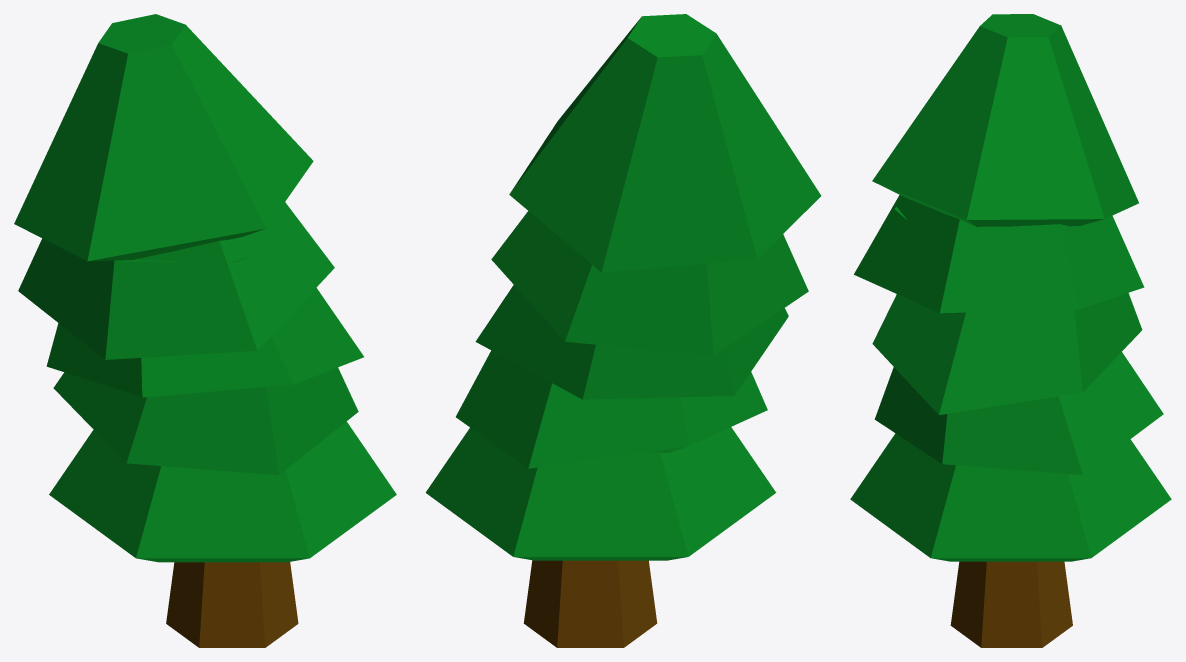
Rendered from Çam.fbx.
The picture shows the model from 3 angles, left to right: view 1: azimuth 30°, elevation 25°; view 2: azimuth 150°, elevation 25°; view 3: azimuth 270°, elevation 25°; orthographic projection. The views are drawn at different scales.
Parts seen in each view (by area): view 1: Silindir, Silindir.001; view 2: Silindir, Silindir.001; view 3: Silindir, Silindir.001.
Boxes of the visible parts, bbox=[...] form: Silindir: bbox=[14, 14, 396, 562]; Silindir.001: bbox=[166, 562, 298, 647]; Silindir: bbox=[425, 14, 821, 560]; Silindir.001: bbox=[523, 560, 657, 647]; Silindir: bbox=[850, 14, 1171, 561]; Silindir.001: bbox=[950, 561, 1072, 647].
Size of the model in its own units: 374 by 700 by 360.
